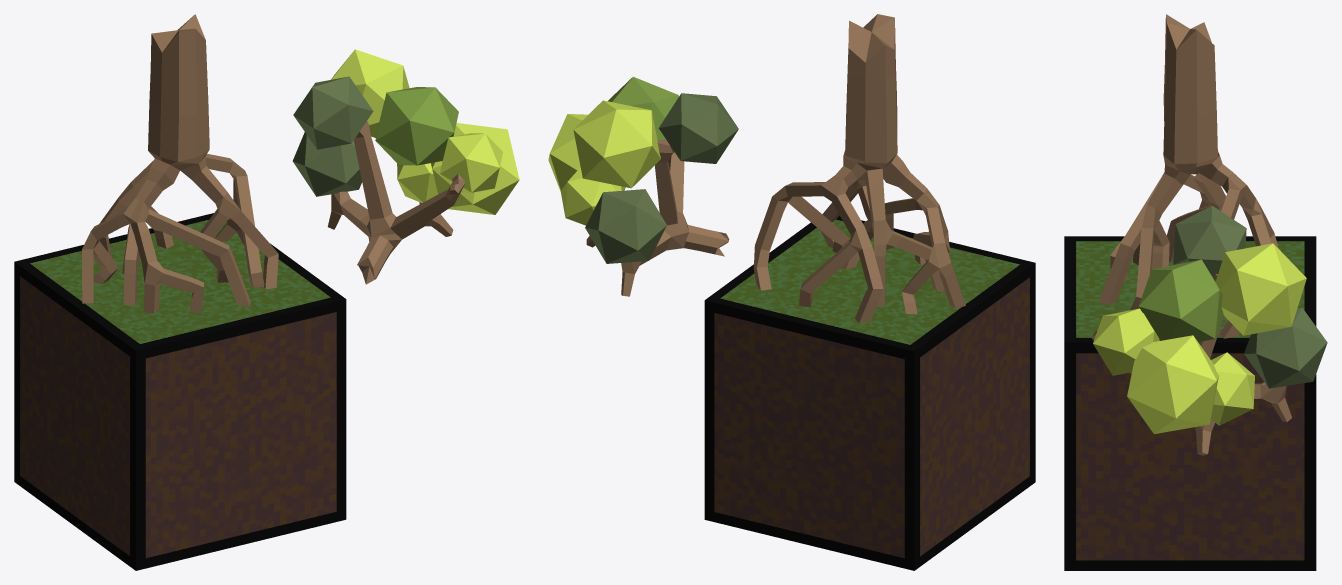
Rendered from TreeCutMarsh.glb.
3 renders of one model, left to right at view 1: azimuth 30°, elevation 25°; view 2: azimuth 150°, elevation 25°; view 3: azimuth 270°, elevation 25°, orthographic. The views are drawn at different scales.
Parts seen in each view (by area): view 1: DarkGrass.Baked, Cube, Cube.001, Icosphere.007, Icosphere.005, Icosphere.009, Icosphere.003, Icosphere.002, Icosphere.006, Icosphere.004; view 2: DarkGrass.Baked, Cube, Icosphere.006, Icosphere.009, Cube.001, Icosphere.005, Icosphere.007, Icosphere.004, Icosphere.003; view 3: DarkGrass.Baked, Cube, Icosphere.003, Icosphere.006, Icosphere.007, Icosphere.009, Icosphere.005, Icosphere.002, Icosphere.004, Cube.001.
Boxes of the visible parts, <box> form: DarkGrass.Baked: <box>14,213,346,570</box>; Cube: <box>82,14,278,313</box>; Cube.001: <box>327,121,465,284</box>; Icosphere.007: <box>375,87,458,165</box>; Icosphere.005: <box>293,76,373,149</box>; Icosphere.009: <box>292,132,361,196</box>; Icosphere.003: <box>431,123,519,214</box>; Icosphere.002: <box>440,133,503,192</box>; Icosphere.006: <box>331,49,409,137</box>; Icosphere.004: <box>397,163,437,202</box>; DarkGrass.Baked: <box>704,215,1035,570</box>; Cube: <box>753,14,965,323</box>; Icosphere.006: <box>573,100,660,188</box>; Icosphere.009: <box>585,189,666,263</box>; Cube.001: <box>586,139,729,296</box>; Icosphere.005: <box>658,93,738,163</box>; Icosphere.007: <box>608,76,678,140</box>; Icosphere.004: <box>560,167,621,225</box>; Icosphere.003: <box>548,114,625,190</box>; DarkGrass.Baked: <box>1064,236,1316,570</box>; Cube: <box>1099,14,1278,338</box>; Icosphere.003: <box>1127,335,1218,433</box>; Icosphere.006: <box>1216,243,1306,335</box>; Icosphere.007: <box>1138,259,1223,341</box>; Icosphere.009: <box>1244,307,1327,388</box>; Icosphere.005: <box>1173,205,1246,276</box>; Icosphere.002: <box>1093,308,1159,375</box>; Icosphere.004: <box>1211,352,1254,425</box>; Cube.001: <box>1092,273,1291,455</box>.
Bounding box in the file's own units: 2.02 × 2.14 × 1.02.
5 materials, 1 textured.
